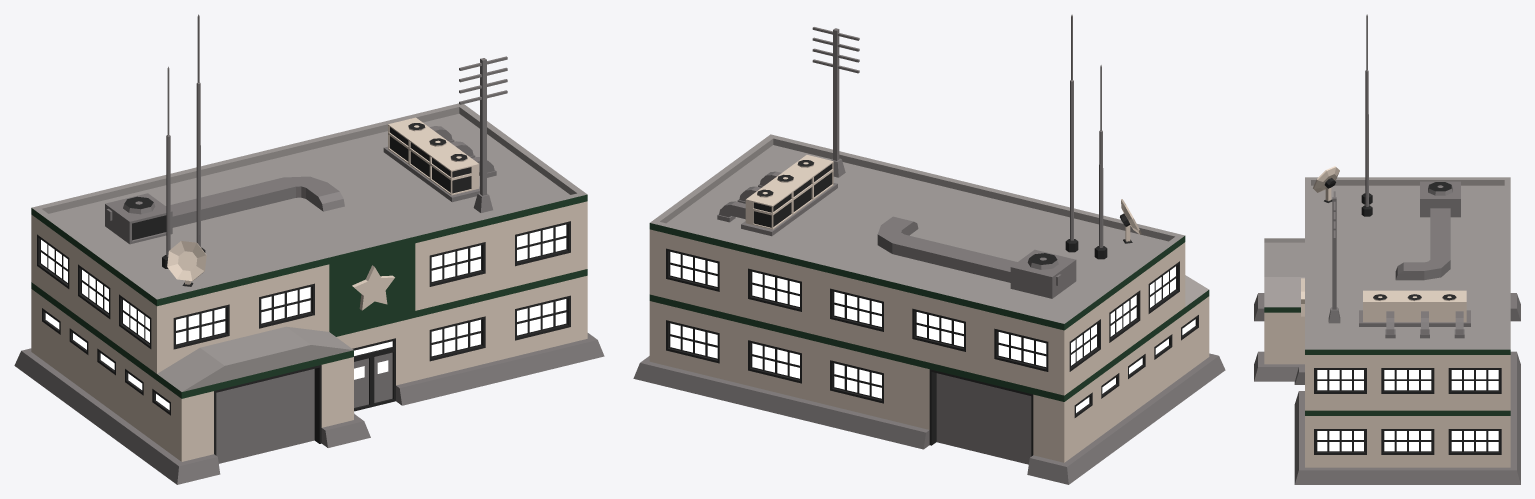
File: military-military-headquarters.glb
The picture shows the model from 3 angles, left to right: view 1: azimuth 30°, elevation 25°; view 2: azimuth 150°, elevation 25°; view 3: azimuth 270°, elevation 25°; orthographic projection. The views are drawn at different scales.
Parts seen in each view (by area): view 1: military-headquarters; view 2: military-headquarters; view 3: military-headquarters.
Boxes of the visible parts, left/top/right/bottom form: military-headquarters: left=14, top=14, right=604, bottom=484; military-headquarters: left=633, top=14, right=1225, bottom=484; military-headquarters: left=1254, top=14, right=1520, bottom=484.
Size of the model in its own units: 21 by 17.68 by 13.1.
